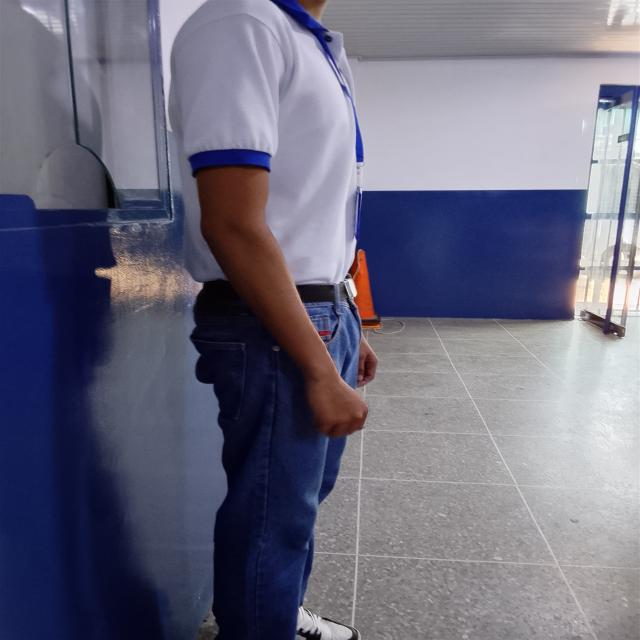carnet: (354, 192, 361, 234)
uniforme_superior: (167, 0, 363, 286)
